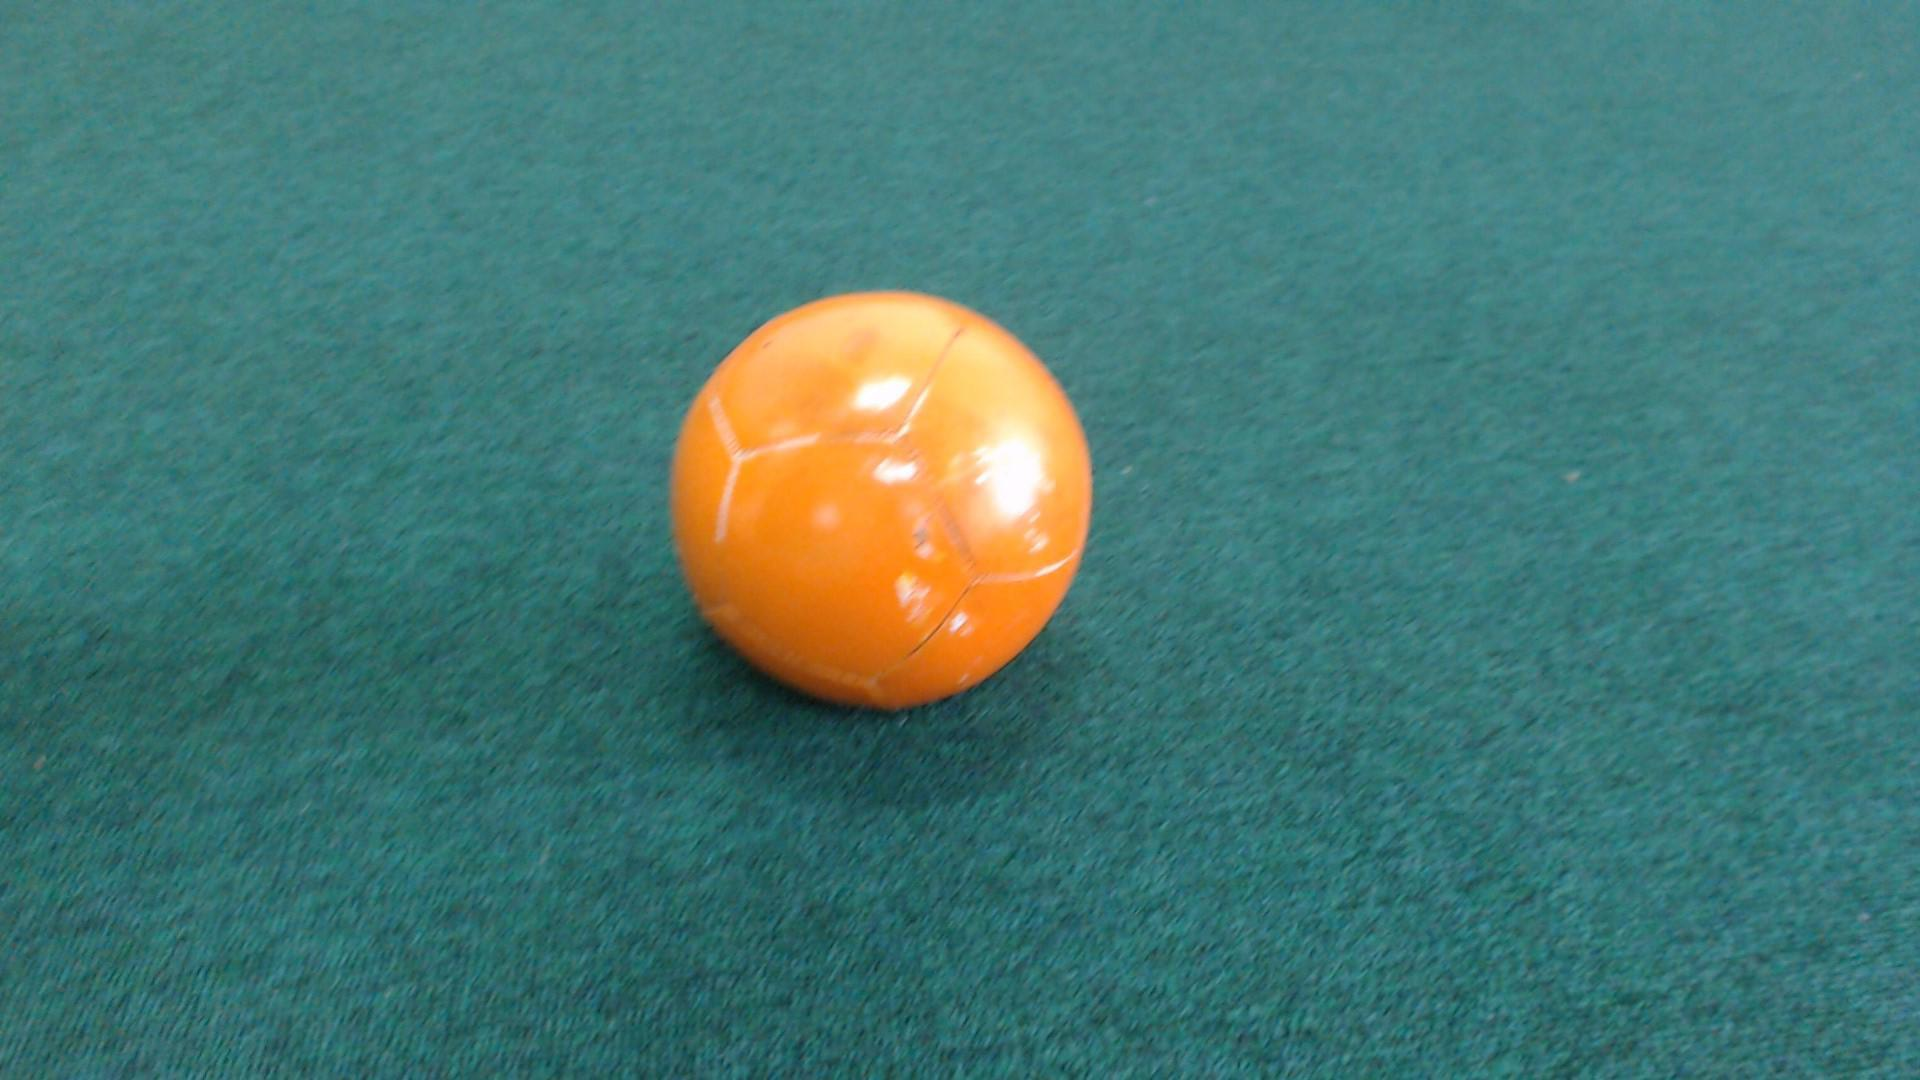bola: (628, 276, 1125, 711)
